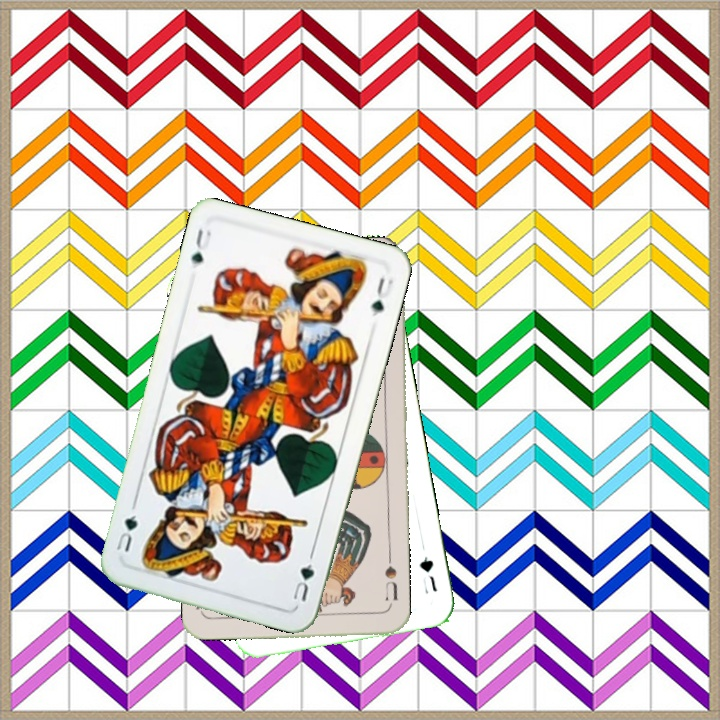GU: (289, 559, 317, 604), (187, 225, 214, 271), (415, 553, 440, 594)
SU: (380, 562, 400, 603)
